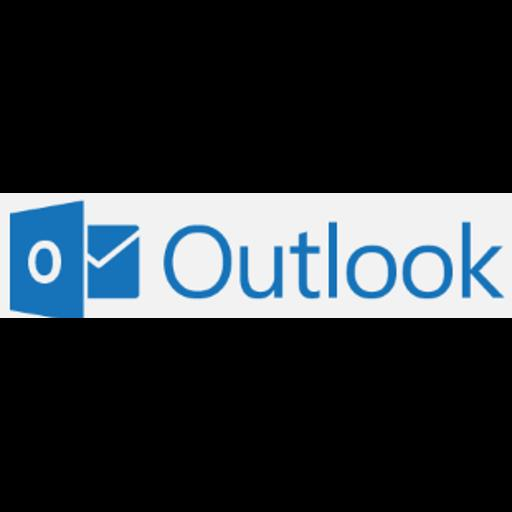Outlook: (0, 193, 512, 318)
